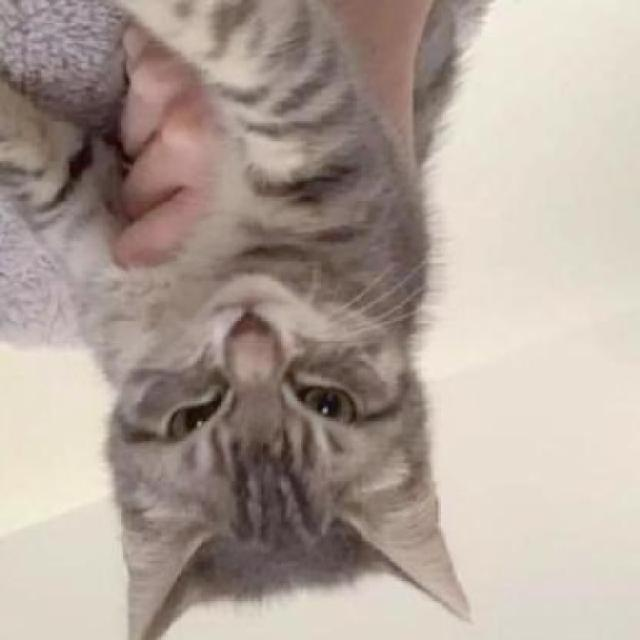cat: (0, 0, 505, 640)
